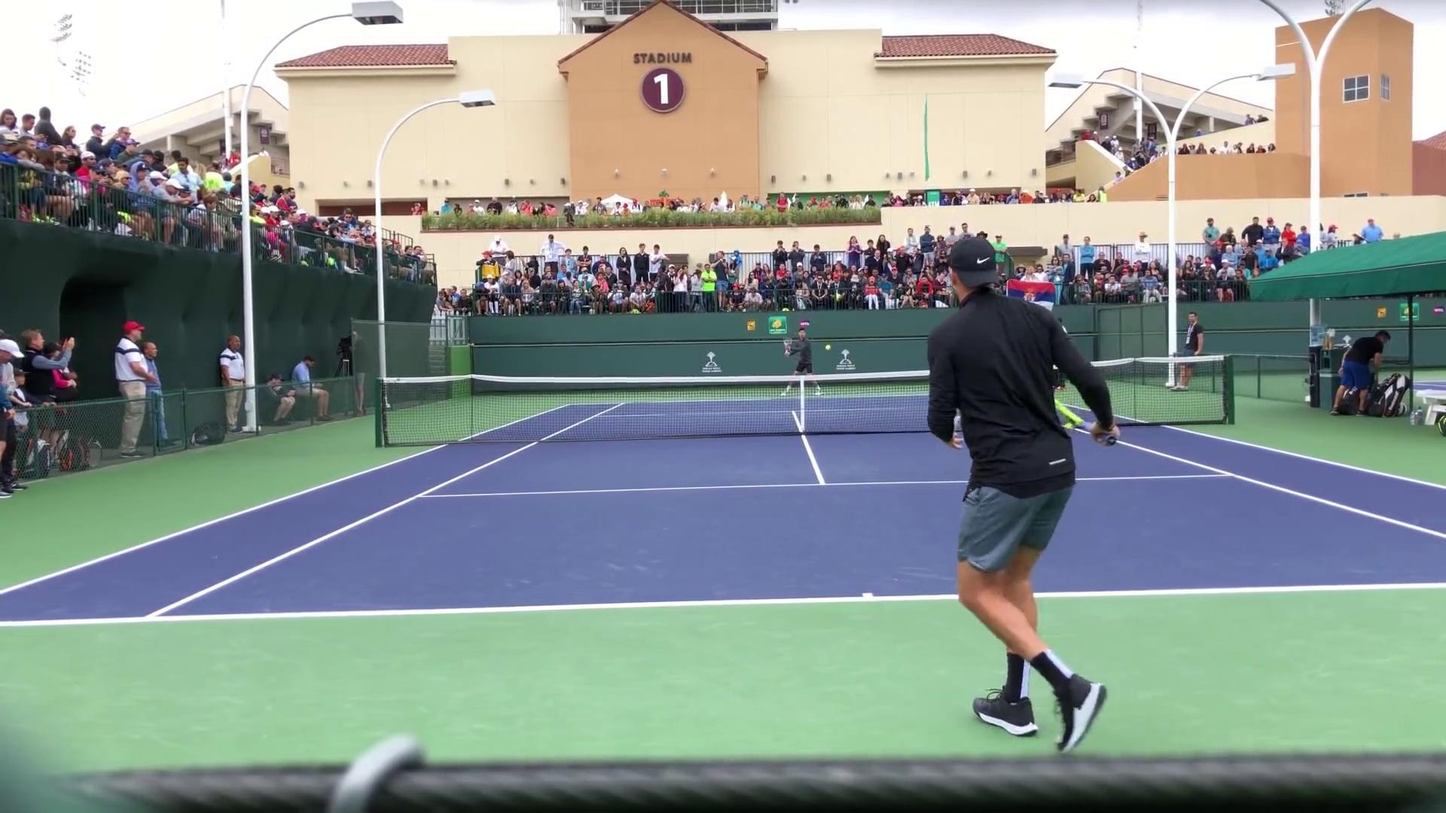ball: (824, 344, 832, 351)
